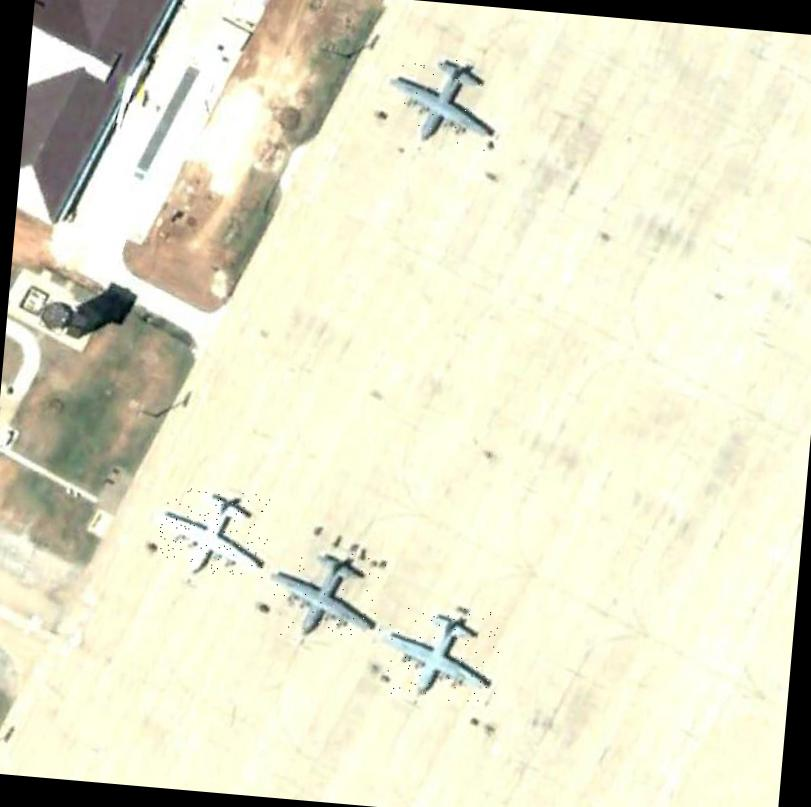A2: (382, 602, 501, 704), (264, 546, 386, 642), (385, 54, 499, 152), (153, 485, 272, 578)
